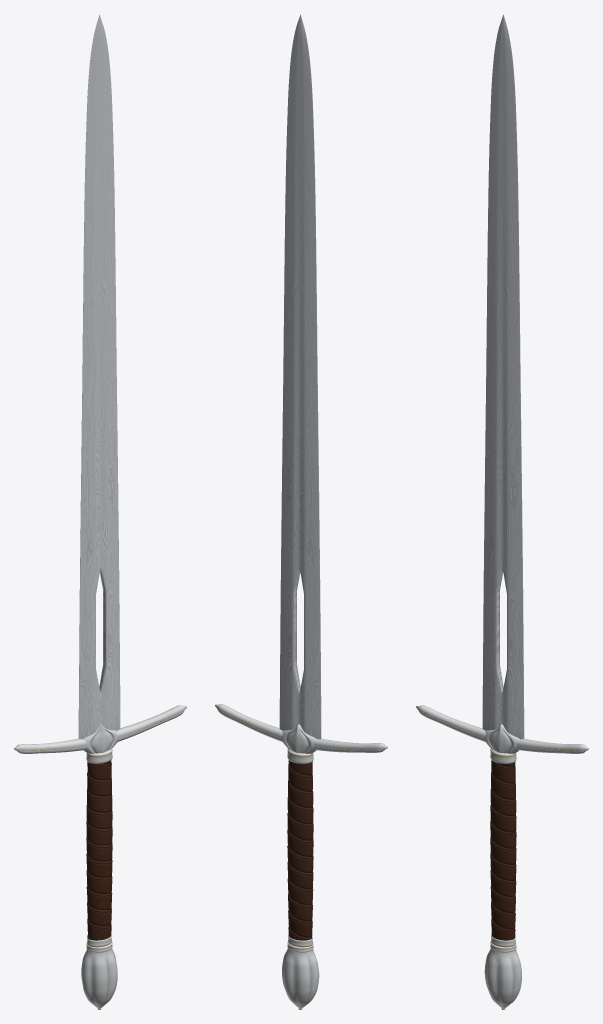
File: branch-sword-mirror-v5.glb
3 views of the same model, side by side, from view 1: azimuth 30°, elevation 25°; view 2: azimuth 150°, elevation 25°; view 3: azimuth 330°, elevation 25° (orthographic).
Visible parts, largest first — view 1: Blade, Grip, Guard, Pommel; view 2: Blade, Grip, Guard, Pommel; view 3: Blade, Grip, Guard, Pommel.
Boxes of the visible parts, bbox=[...] form: Blade: bbox=[78, 14, 120, 739]; Grip: bbox=[86, 760, 112, 947]; Guard: bbox=[14, 705, 186, 763]; Pommel: bbox=[81, 941, 117, 1009]; Blade: bbox=[279, 14, 321, 739]; Grip: bbox=[287, 760, 313, 947]; Guard: bbox=[215, 704, 387, 763]; Pommel: bbox=[282, 941, 319, 1009]; Blade: bbox=[482, 14, 524, 739]; Grip: bbox=[490, 760, 516, 947]; Guard: bbox=[416, 705, 588, 763]; Pommel: bbox=[484, 941, 521, 1009].
Size of the model in its own units: 0.23 by 1.27 by 0.0388.
Materials: 8 (4 with a texture image).
